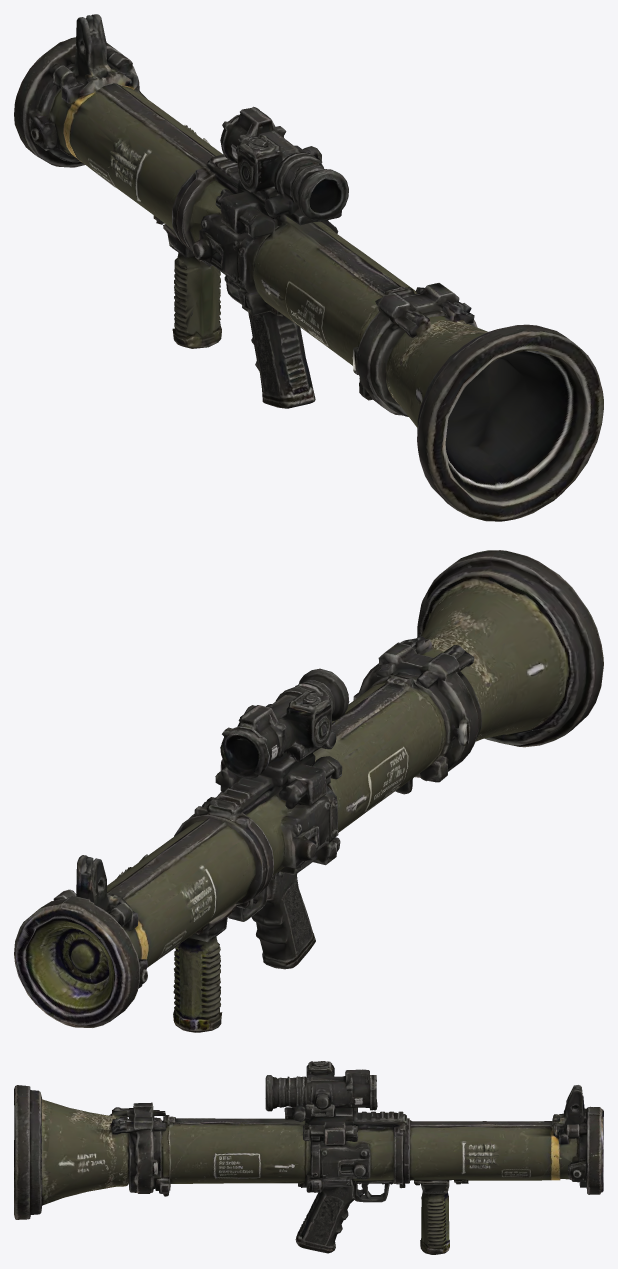
The model's file is launcher.glb.
3 views of the same model, one above another, from view 1: azimuth 30°, elevation 25°; view 2: azimuth 150°, elevation 25°; view 3: azimuth 270°, elevation 25° (orthographic). The views are drawn at different scales.
Parts seen in each view (by area): view 1: tripo_node_c4a2c187-00a7-460d-a6bc-8d9ae662d157; view 2: tripo_node_c4a2c187-00a7-460d-a6bc-8d9ae662d157; view 3: tripo_node_c4a2c187-00a7-460d-a6bc-8d9ae662d157.
Boxes of the visible parts, x1,y1,x2,y2 form: tripo_node_c4a2c187-00a7-460d-a6bc-8d9ae662d157: [14, 14, 603, 521]; tripo_node_c4a2c187-00a7-460d-a6bc-8d9ae662d157: [14, 550, 603, 1032]; tripo_node_c4a2c187-00a7-460d-a6bc-8d9ae662d157: [14, 1061, 603, 1254].
Size of the model in its own units: 0.2244 by 0.3272 by 0.9811.
1 material, 1 textured.
